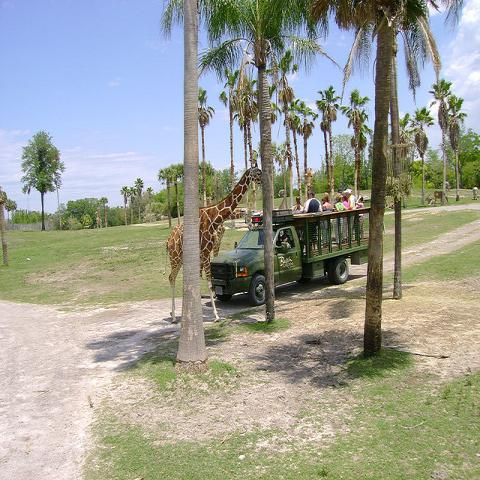truck: (211, 210, 371, 308)
